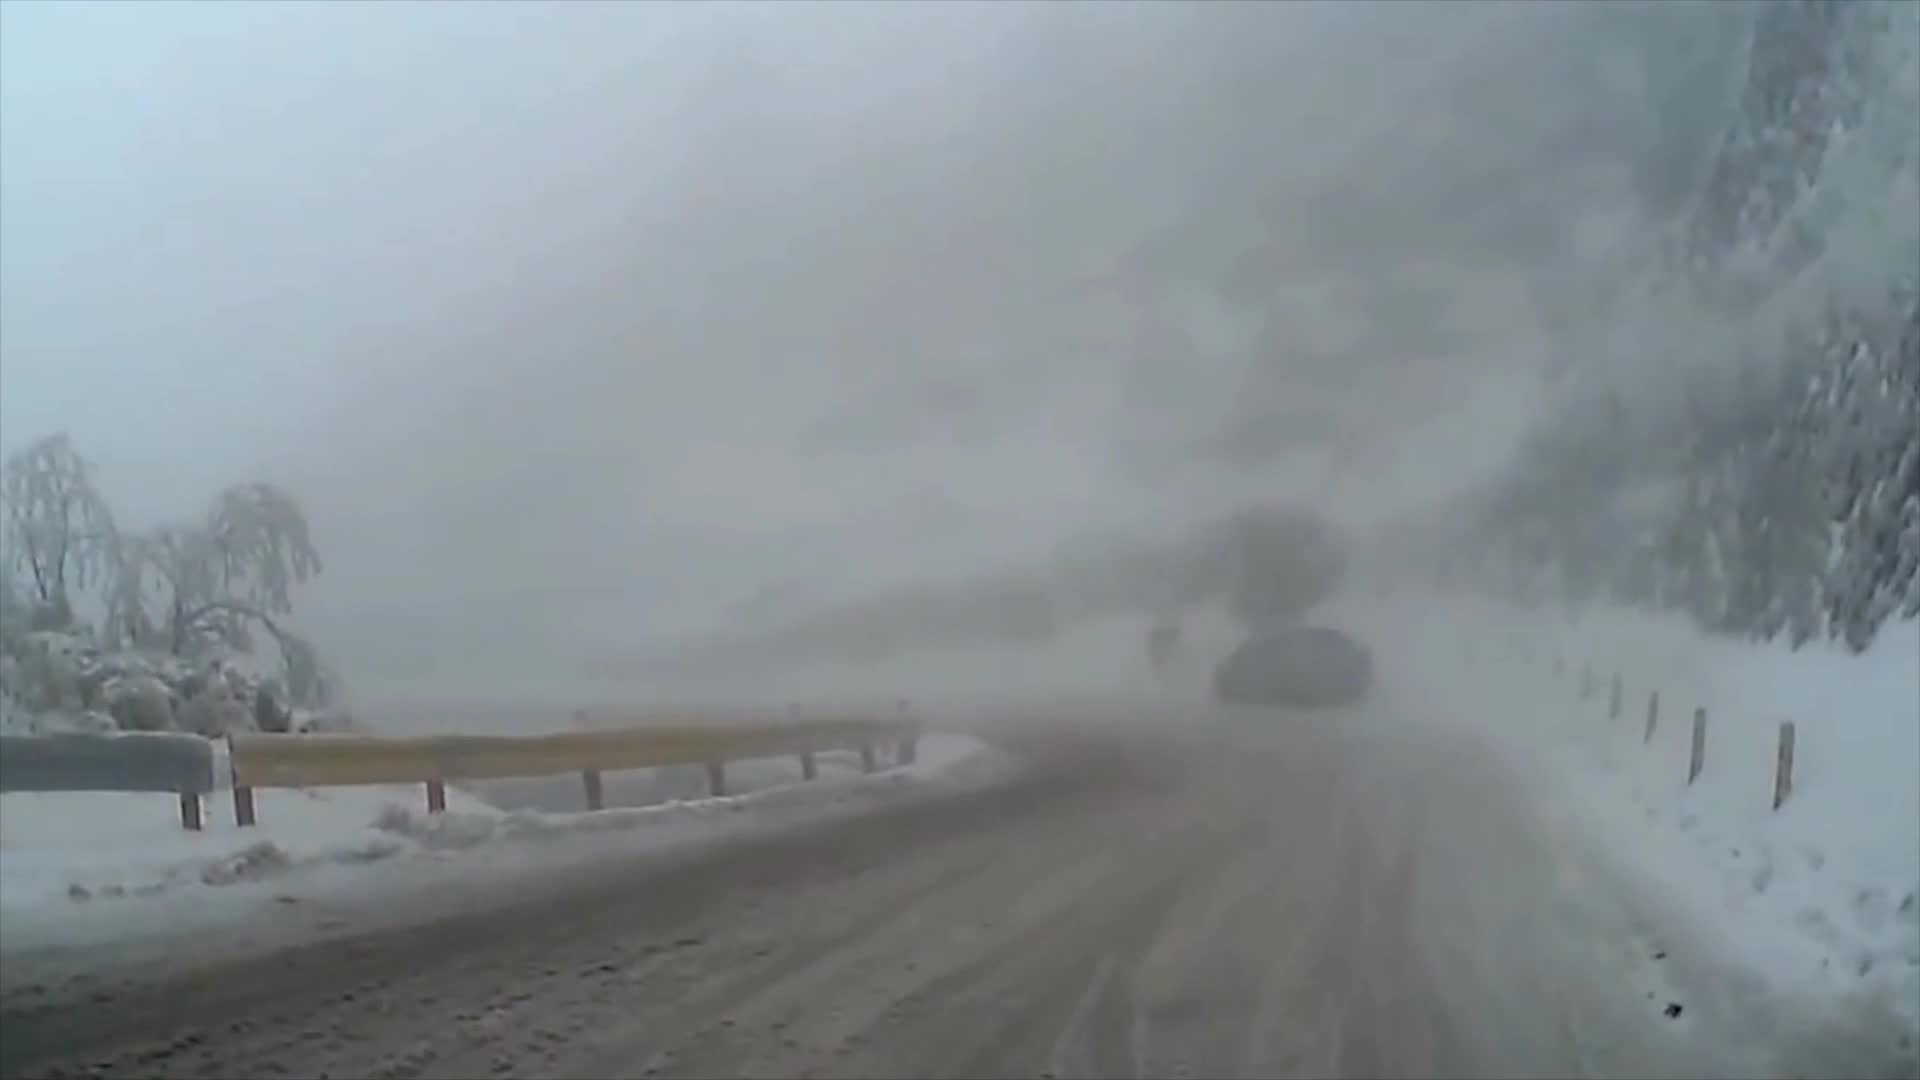vehicle: (1213, 624, 1374, 707)
